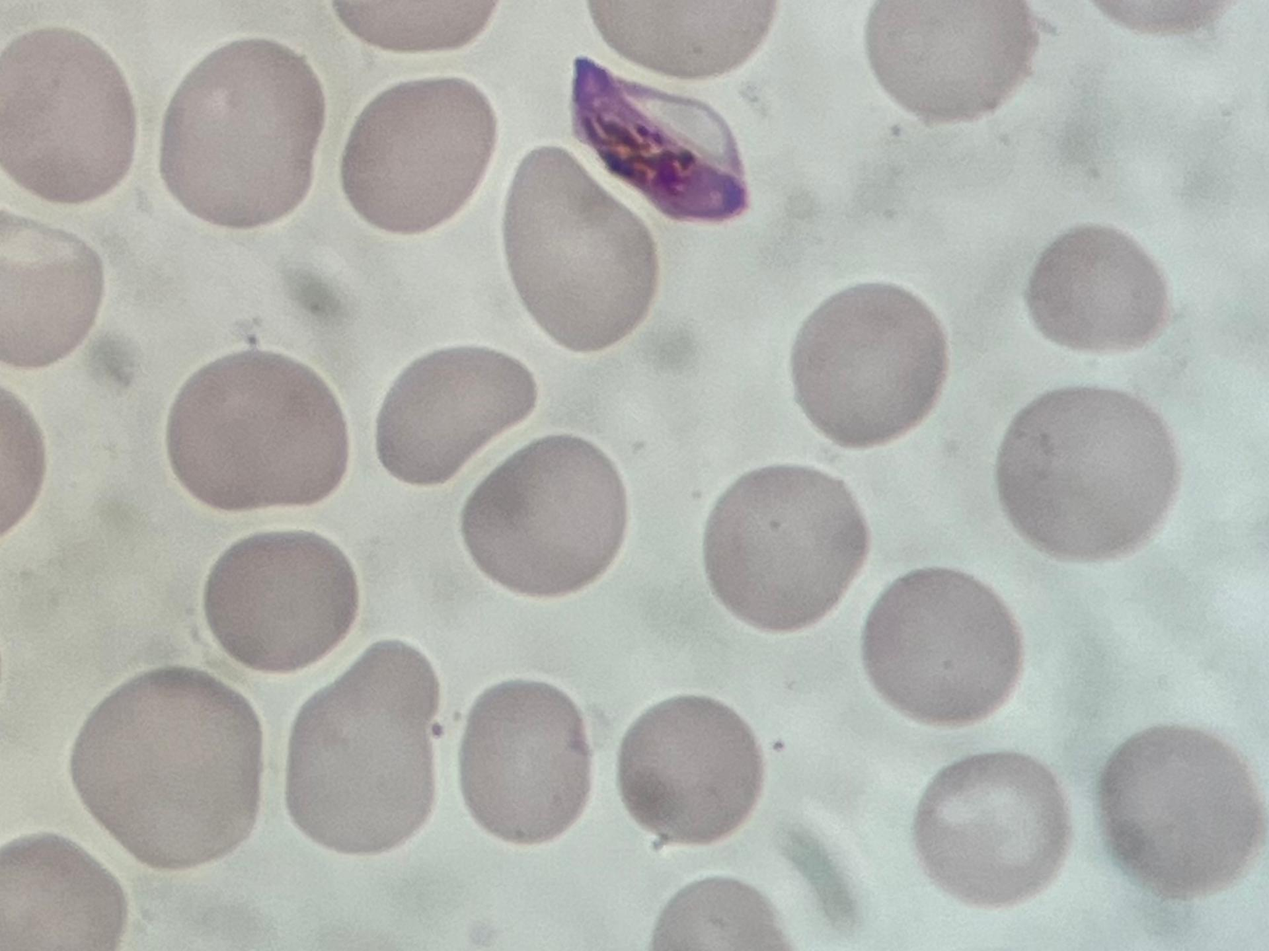Infected: (572, 52, 756, 221)
Uninfected: (73, 668, 263, 866), (283, 638, 442, 857), (502, 147, 660, 354), (996, 385, 1178, 559), (159, 38, 321, 229), (165, 349, 349, 514), (1097, 724, 1269, 895), (461, 430, 632, 600), (706, 466, 866, 631), (861, 569, 1023, 730), (793, 285, 946, 450), (339, 78, 497, 236), (912, 750, 1072, 904), (0, 25, 136, 202), (373, 346, 535, 487), (616, 696, 767, 845), (861, 0, 1039, 122), (459, 681, 591, 845), (203, 534, 358, 673), (1026, 223, 1170, 356), (0, 213, 100, 369), (0, 833, 126, 951)
